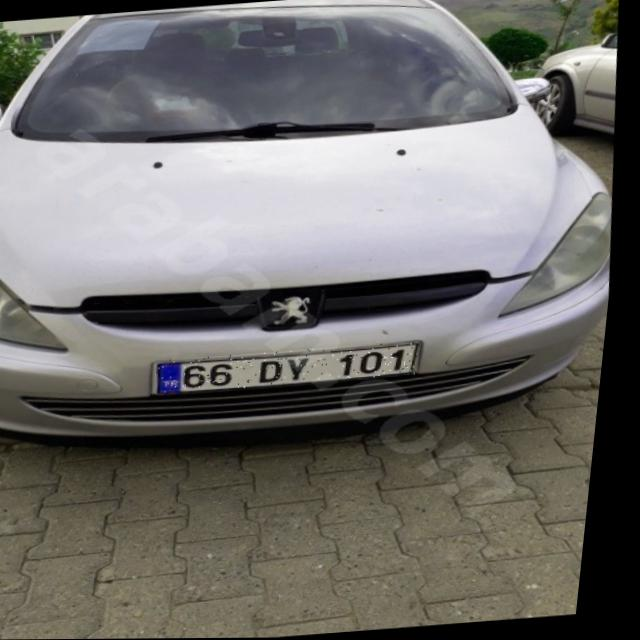license_plate: (159, 341, 429, 395)
